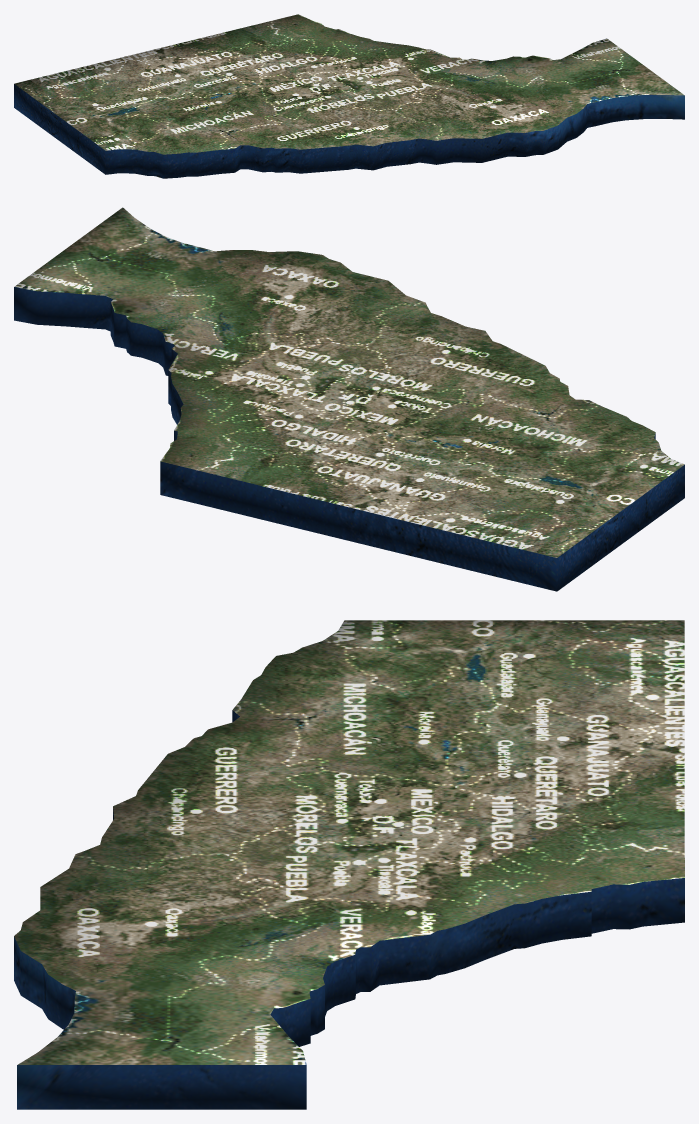
File: mapamexico.fbx
The picture shows the model from 3 angles, top to bottom: view 1: azimuth 30°, elevation 25°; view 2: azimuth 150°, elevation 25°; view 3: azimuth 270°, elevation 25°; orthographic projection. The views are drawn at different scales.
Visible parts, largest first — view 1: Mapa; view 2: Mapa; view 3: Mapa.
Boxes of the visible parts, x1,y1,x2,y2 form: Mapa: [14, 14, 684, 178]; Mapa: [14, 207, 684, 591]; Mapa: [14, 620, 684, 1109].
Bounding box in the file's own units: 1405 × 65.83 × 896.
